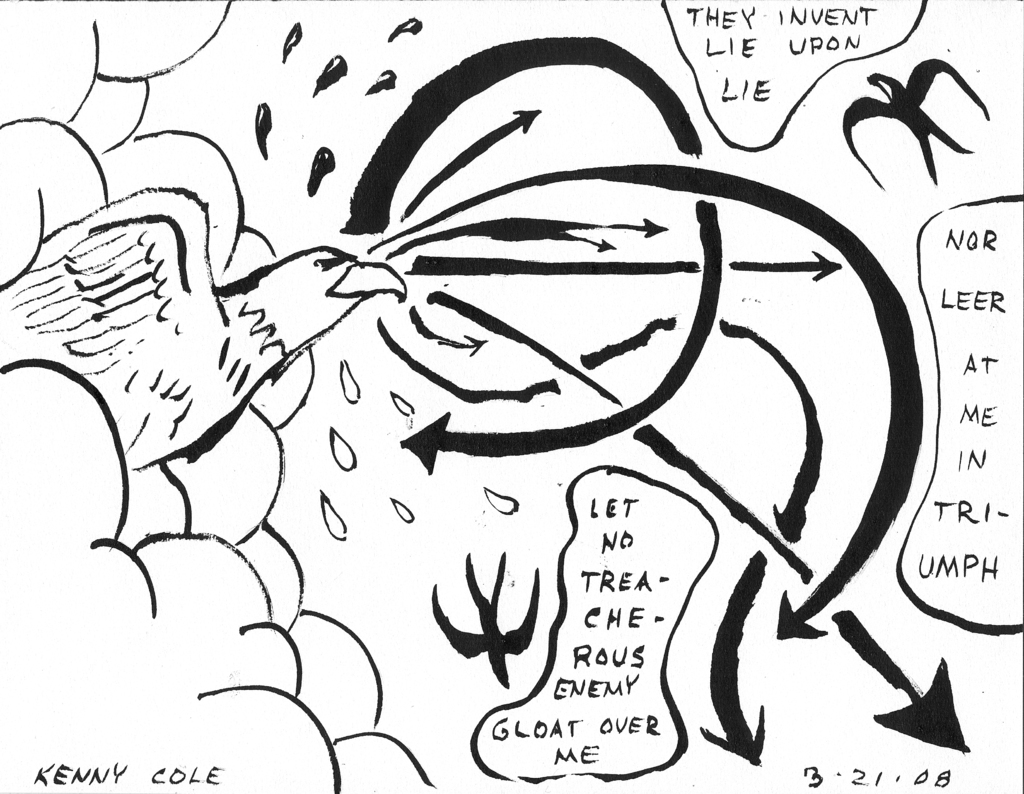Animal: (10, 187, 407, 478), (837, 52, 983, 178)
